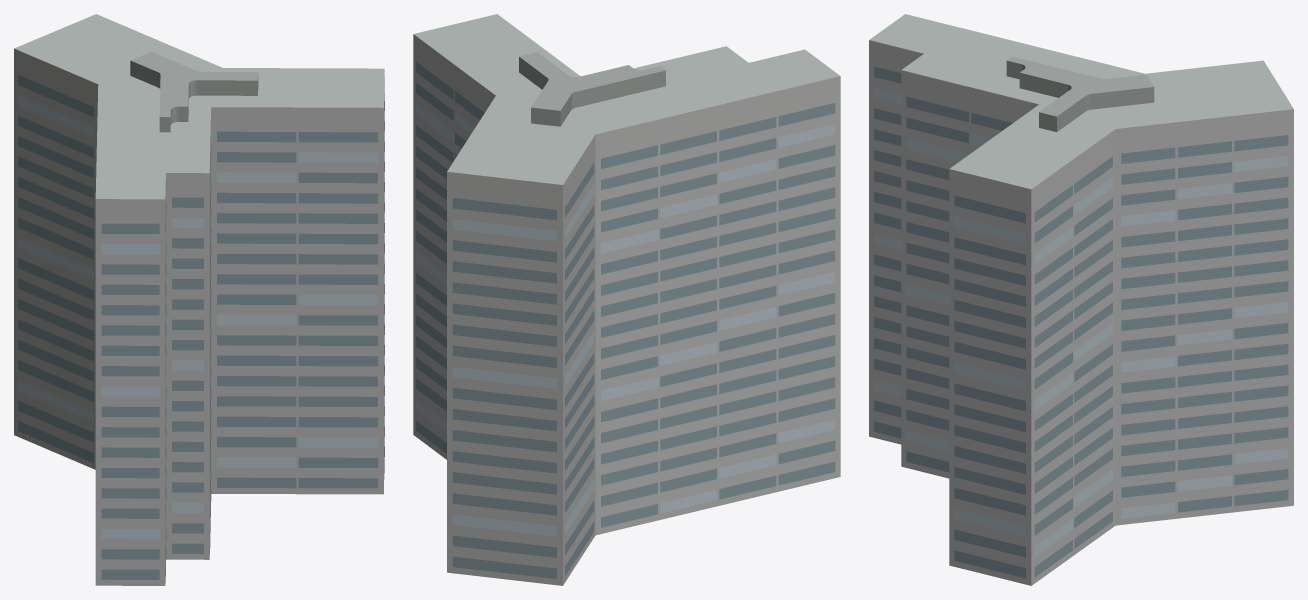
The model's file is apt-a15086601.glb.
3 renders of one model, left to right at view 1: azimuth 30°, elevation 25°; view 2: azimuth 150°, elevation 25°; view 3: azimuth 270°, elevation 25°, orthographic. The views are drawn at different scales.
Visible parts, largest first — view 1: apt-a15086601; view 2: apt-a15086601; view 3: apt-a15086601.
Part boxes in pixels (x1=…): apt-a15086601: x1=14, y1=14, x2=384, y2=585; apt-a15086601: x1=413, y1=14, x2=840, y2=585; apt-a15086601: x1=869, y1=14, x2=1293, y2=585.
Bounding box in the file's own units: 57.48 × 63 × 58.85.
